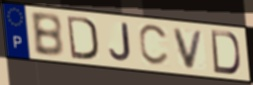B: (29, 12, 66, 59)
C: (137, 24, 171, 68)
D: (65, 14, 100, 62), (209, 29, 242, 77)
J: (107, 22, 133, 64)
V: (171, 27, 206, 71)
